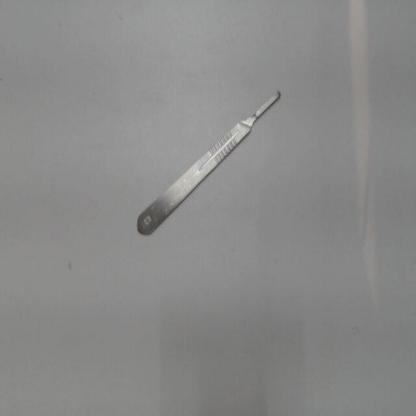No.4 BP Handle: (128, 78, 294, 249)
